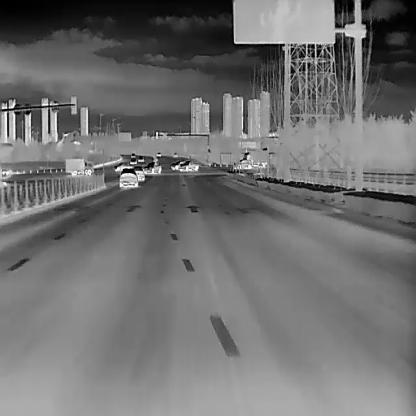car: (118, 166, 137, 188), (177, 158, 198, 172), (144, 159, 160, 174), (113, 161, 131, 171), (169, 158, 184, 170), (233, 158, 251, 168), (132, 165, 143, 179), (129, 156, 136, 164), (137, 153, 144, 161), (130, 152, 135, 158), (172, 151, 176, 157), (156, 150, 160, 156)
truck: (65, 157, 94, 174), (242, 149, 268, 167)
